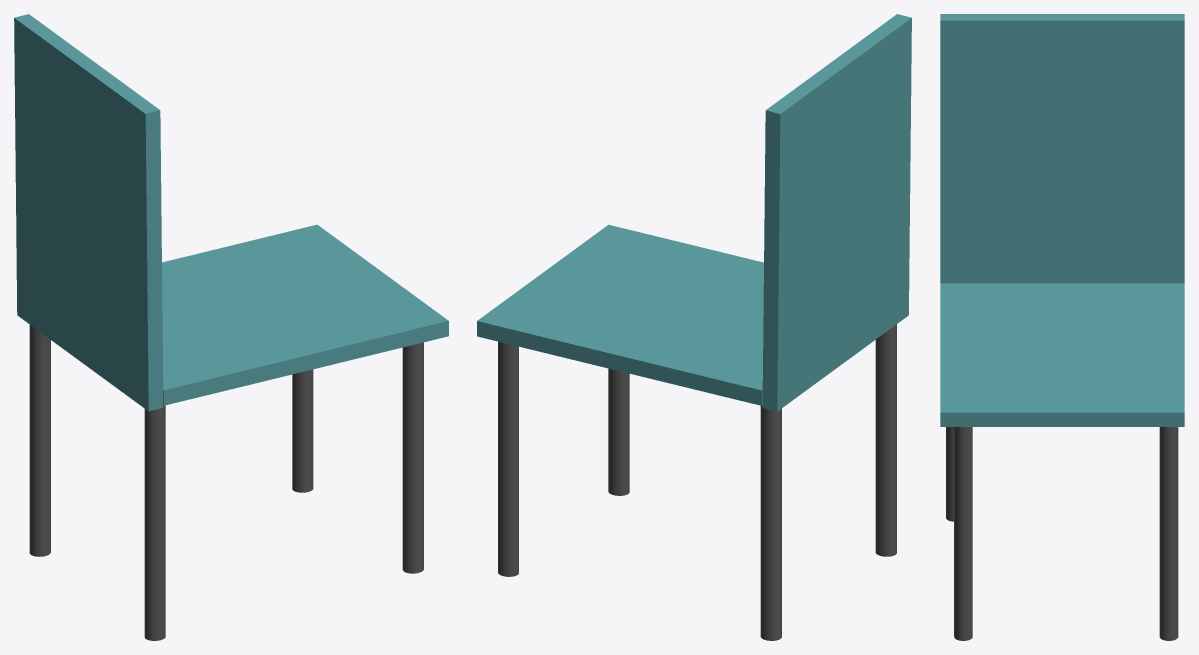
The model's file is krzeslo - poczekalnia.glb.
The picture shows the model from 3 angles, left to right: view 1: azimuth 30°, elevation 25°; view 2: azimuth 150°, elevation 25°; view 3: azimuth 270°, elevation 25°; orthographic projection. The views are drawn at different scales.
Parts seen in each view (by area): view 1: Cube.001, Cube, Cylinder.003, Cylinder, Cylinder.002, Cylinder.001; view 2: Cube.001, Cube, Cylinder.002, Cylinder.003, Cylinder.001, Cylinder; view 3: Cube.001, Cube, Cylinder.001, Cylinder, Cylinder.003.
Boxes of the visible parts, x1,y1,x2,y2 form: Cube.001: (14,14,163,411); Cube: (162,224,448,405); Cylinder.003: (144,405,165,640); Cylinder: (402,342,423,573); Cylinder.002: (29,325,50,556); Cylinder.001: (292,369,313,492); Cube.001: (762,14,911,411); Cube: (477,224,763,405); Cylinder.002: (760,406,781,640); Cylinder.003: (875,324,896,556); Cylinder.001: (498,341,518,576); Cylinder: (608,368,629,495); Cube.001: (940,14,1184,283); Cube: (940,283,1184,426); Cylinder.001: (1159,427,1178,640); Cylinder: (954,427,972,640); Cylinder.003: (946,427,953,521).
Bounding box in the file's own units: 3.85 × 6.47 × 2.89.
6 materials, 6 textured.
